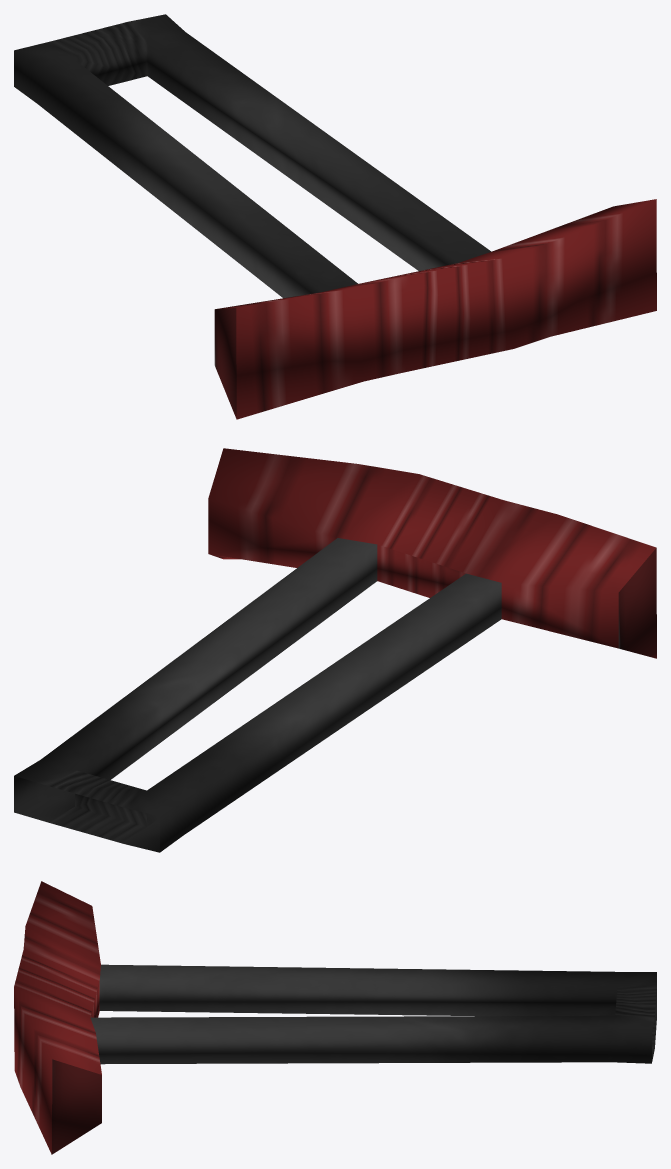
Rendered from Handler.FBX.
3 renders of one model, top to bottom at view 1: azimuth 30°, elevation 25°; view 2: azimuth 150°, elevation 25°; view 3: azimuth 270°, elevation 25°, orthographic. The views are drawn at different scales.
Parts seen in each view (by area): view 1: Handler; view 2: Handler; view 3: Handler.
Boxes of the visible parts, x1=… form: Handler: x1=14, y1=14, x2=656, y2=419; Handler: x1=14, y1=448, x2=656, y2=852; Handler: x1=14, y1=881, x2=656, y2=1154.
Bounding box in the file's own units: 9 × 2.25 × 13.71.
